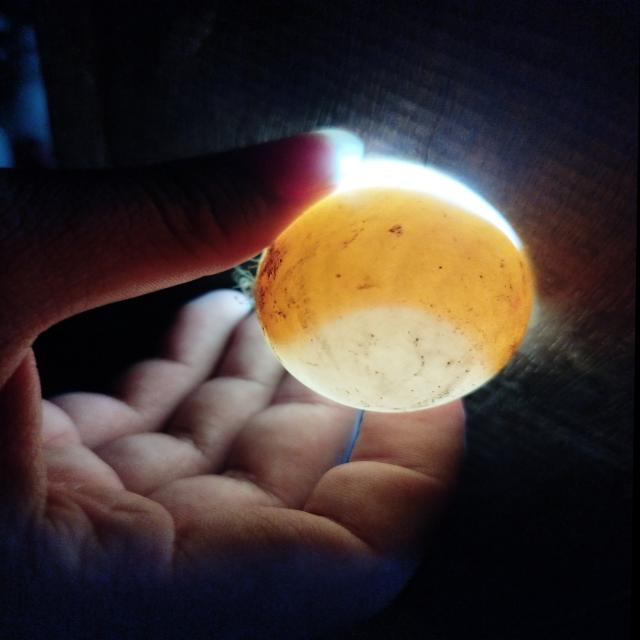Camara de Ar: (280, 309, 491, 413)
